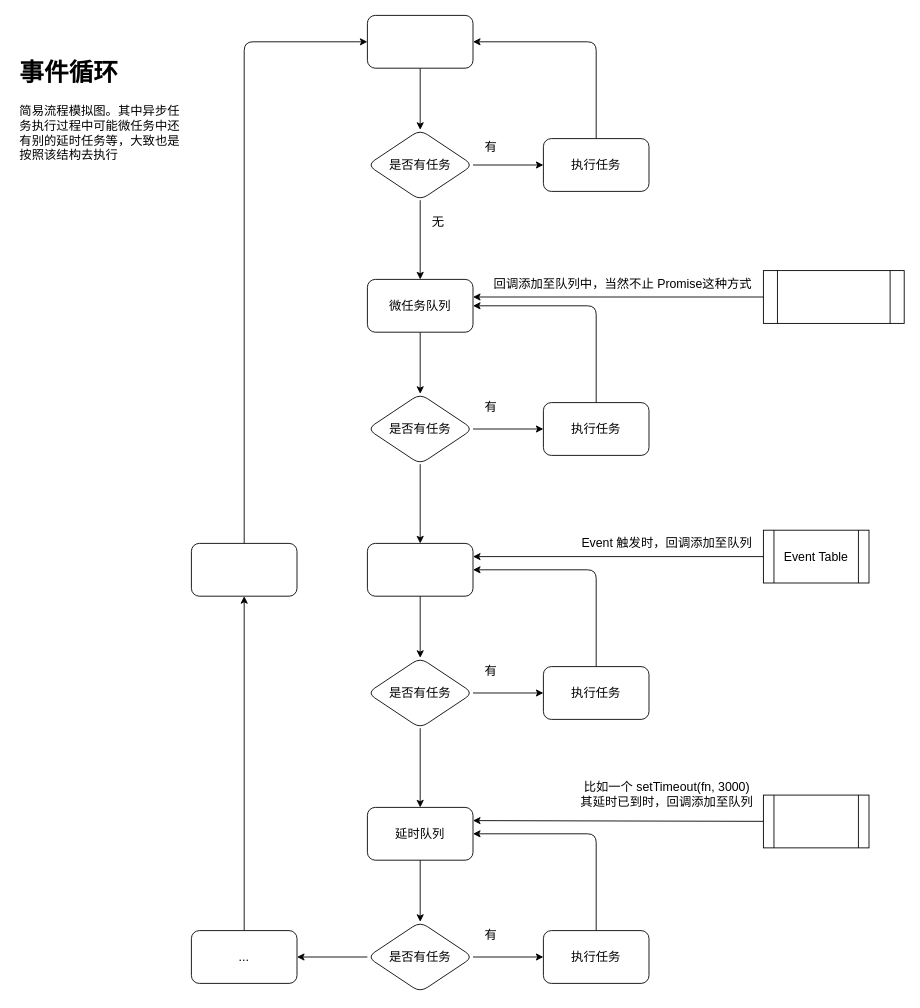
Image size: 920x1008. Some labels were removed from this diagram. Here are the shapes that lost their labels. From the top down, the centre of each, then its label:
the point at 420,41: 执行栈
the point at 833,296: 比如 Promise.resolve
the point at 244,569: 休眠，等待唤醒
the point at 420,569: 交互队列
the point at 816,821: Web API
